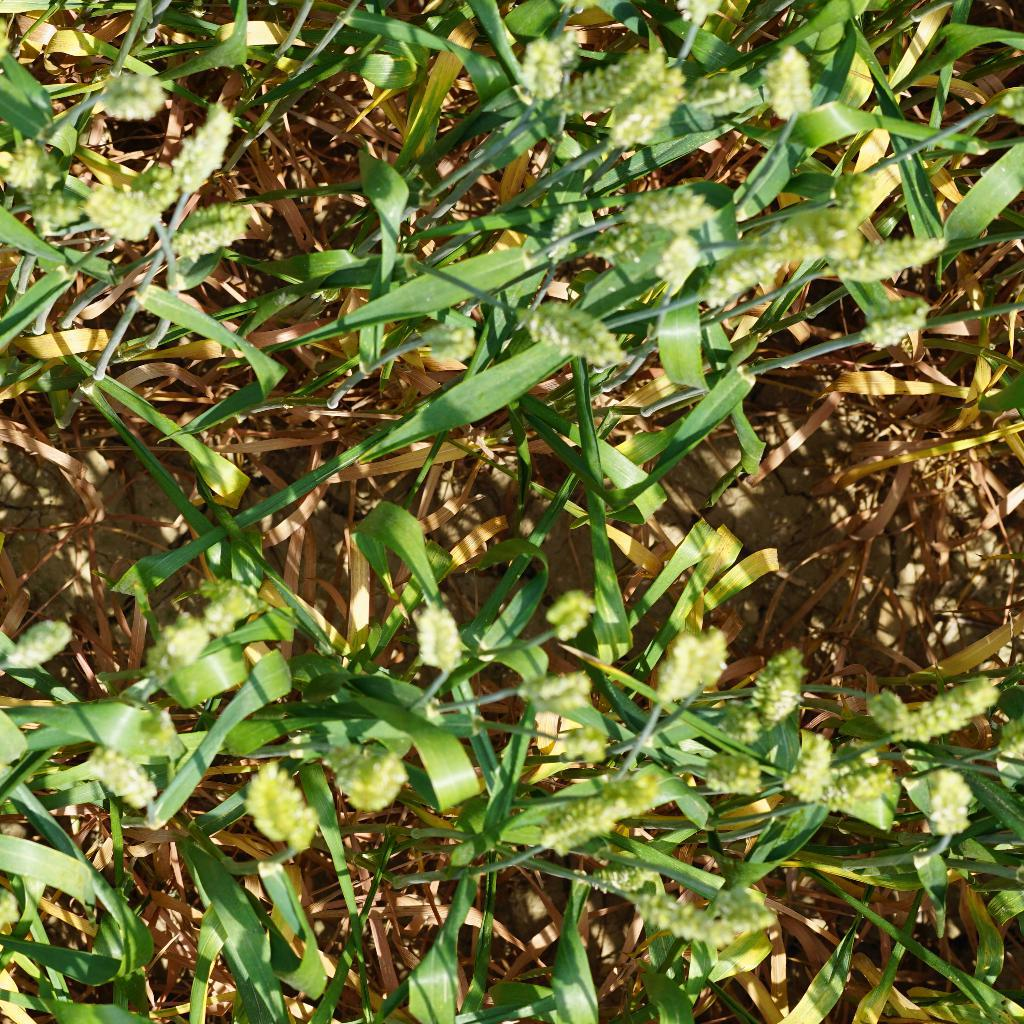0-0: (504, 295, 633, 376), (228, 750, 320, 860), (536, 44, 665, 120), (526, 773, 643, 848), (654, 616, 736, 718), (893, 679, 1004, 752), (710, 224, 815, 299), (621, 888, 737, 953), (331, 717, 414, 804), (600, 66, 686, 149), (163, 103, 240, 194), (605, 179, 721, 238), (844, 215, 933, 291), (66, 162, 156, 237), (81, 60, 182, 124), (919, 757, 997, 834), (154, 200, 253, 260), (681, 58, 766, 127), (138, 610, 215, 680), (74, 743, 154, 810), (642, 227, 709, 305), (412, 588, 467, 683), (759, 41, 825, 120), (819, 154, 885, 232), (200, 560, 266, 635), (833, 747, 901, 819), (512, 28, 572, 104), (860, 290, 933, 351), (752, 648, 808, 727), (707, 874, 787, 929), (0, 615, 76, 671), (514, 660, 593, 713), (697, 746, 769, 803), (534, 586, 606, 642), (789, 725, 840, 804), (0, 124, 56, 194), (576, 219, 653, 268), (852, 662, 904, 729), (553, 707, 612, 766), (587, 851, 666, 894), (123, 161, 180, 217), (548, 200, 587, 269)
